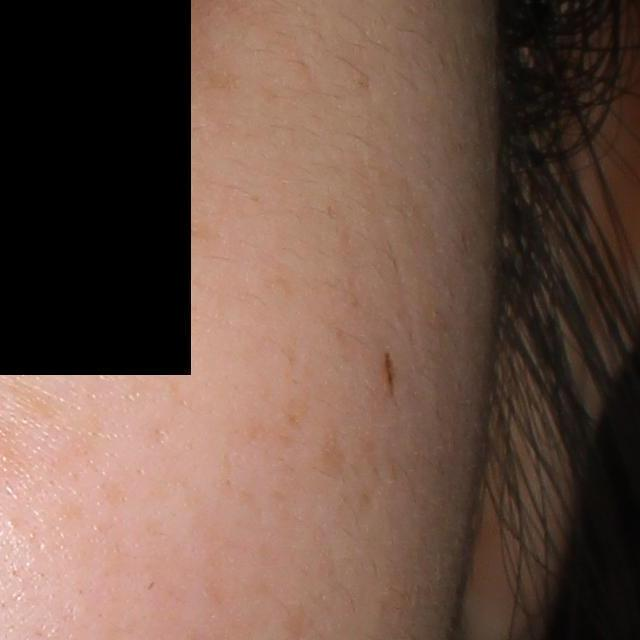melasma: (1, 371, 61, 425), (315, 421, 349, 479)
